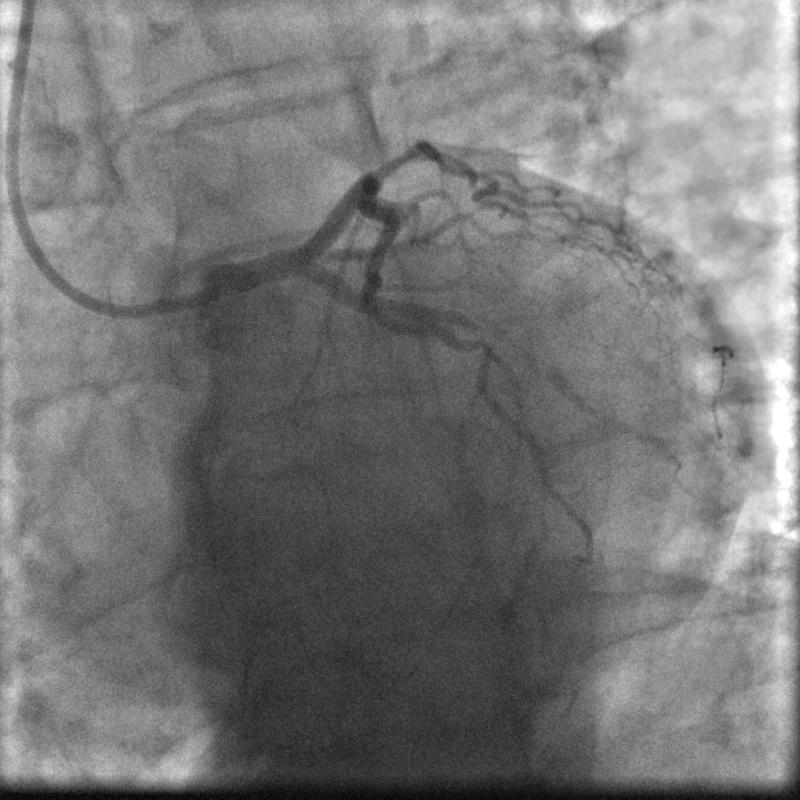Stenosis: (366, 129, 426, 175)
